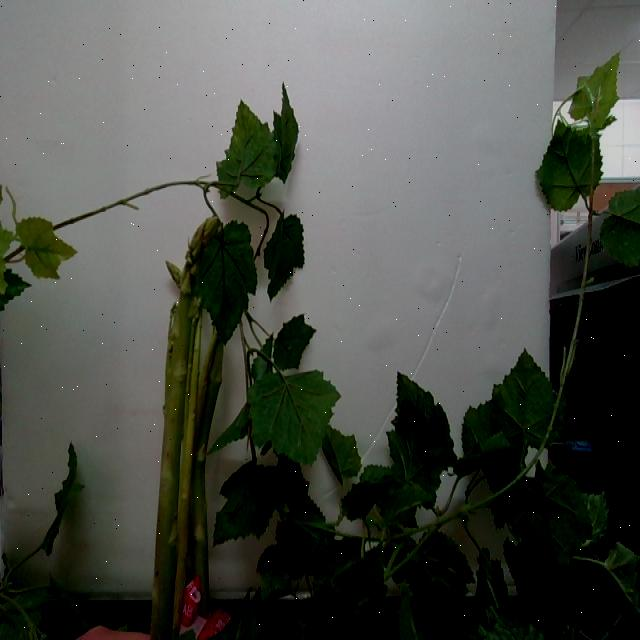aspargus: (149, 213, 220, 640)
